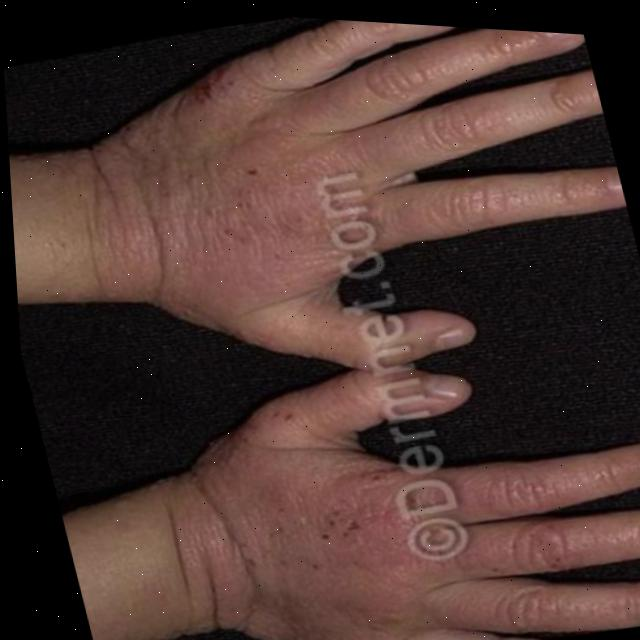Eczema: (82, 68, 384, 306), (187, 434, 441, 640)
